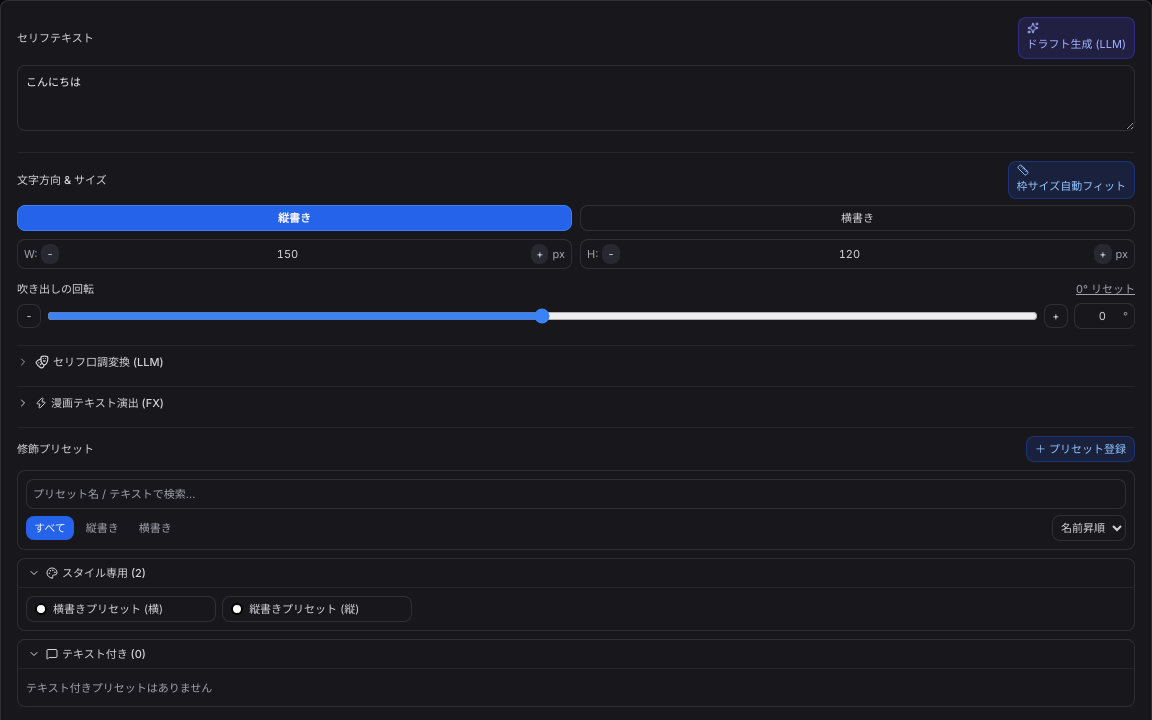
Test: SpeechBubbleControls › filters presets by direction filter (all / vertical / horizontal) (AC-4)
This screenshot has width=1152, height=720.
expect the text "縦書きプリセット (縦)" is shown: met, box 249,601 -> 359,617
expect the text "横書きプリセット (横)" is shown: met, box 53,601 -> 163,617
Filter vertical only
Click the button "縦書き" below "修飾プリセット" at (102, 528), box 78,516 -> 127,540
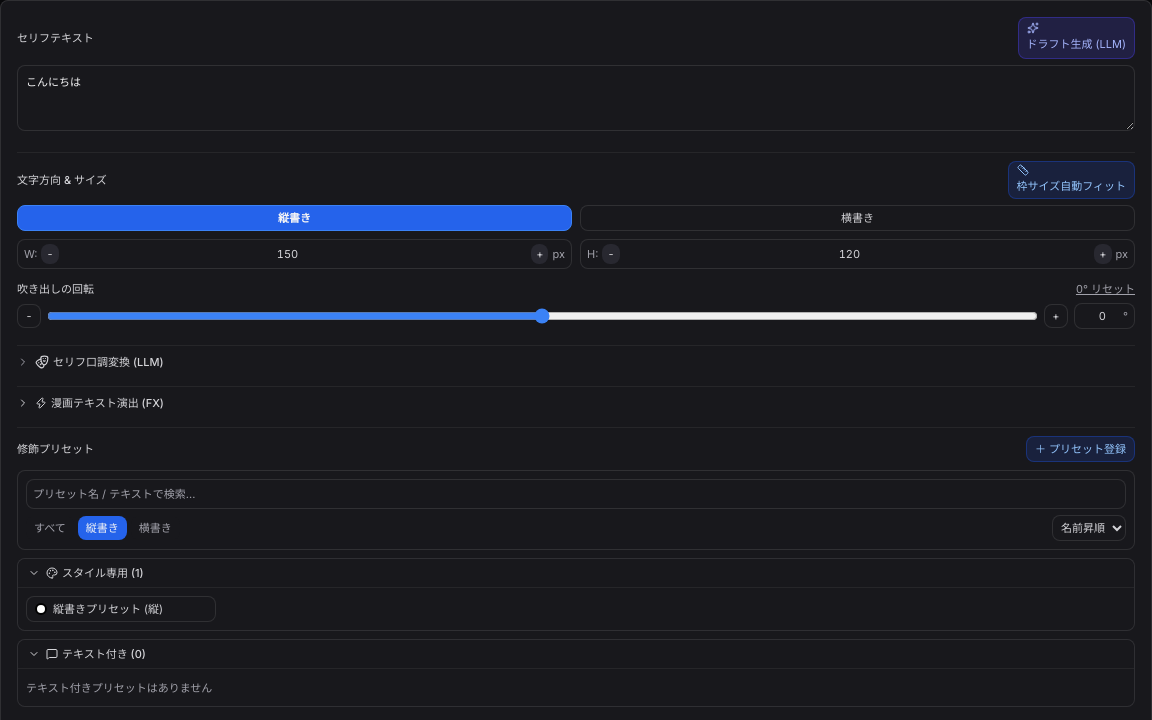
expect the text "縦書きプリセット (縦)" is shown: met, box 53,601 -> 163,617
expect the button "横書きプリセット (横)" is gone: met
Filter horizontal only
Click the button "横書き" below "修飾プリセット" at (155, 528), box 131,516 -> 180,540
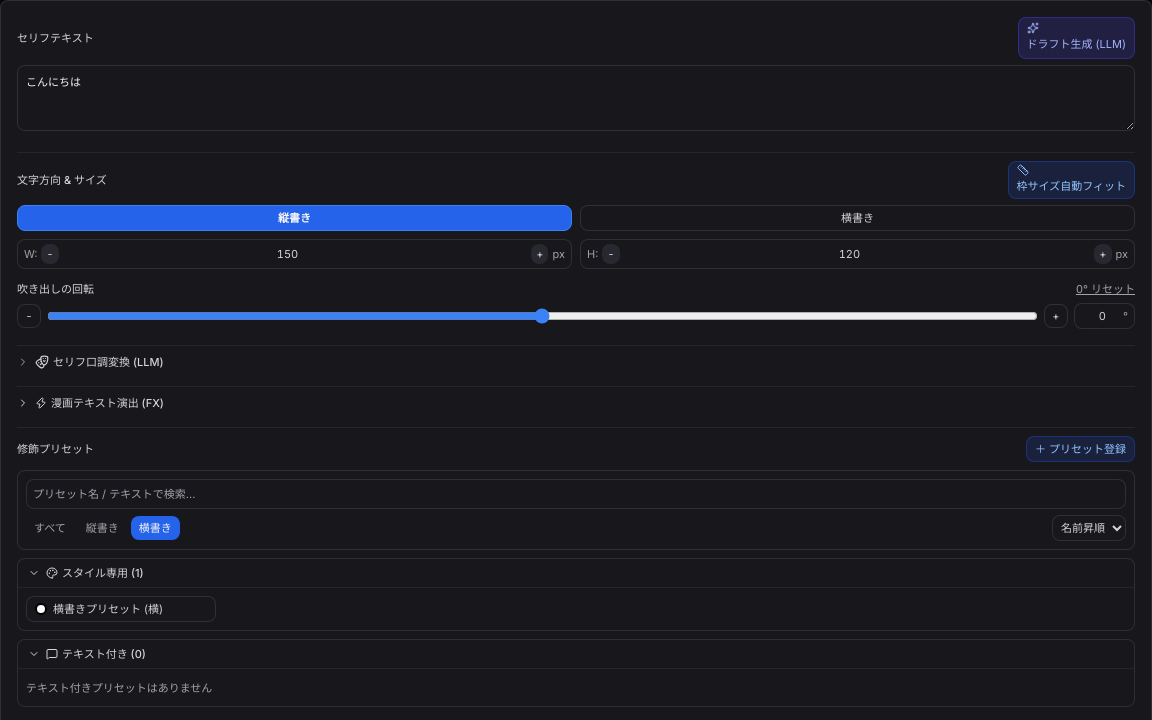
expect the button "縦書きプリセット (縦)" is gone: met
expect the text "横書きプリセット (横)" is shown: met, box 53,601 -> 163,617
Reset to all
Click the button "すべて" at (50, 528), box 26,516 -> 74,540
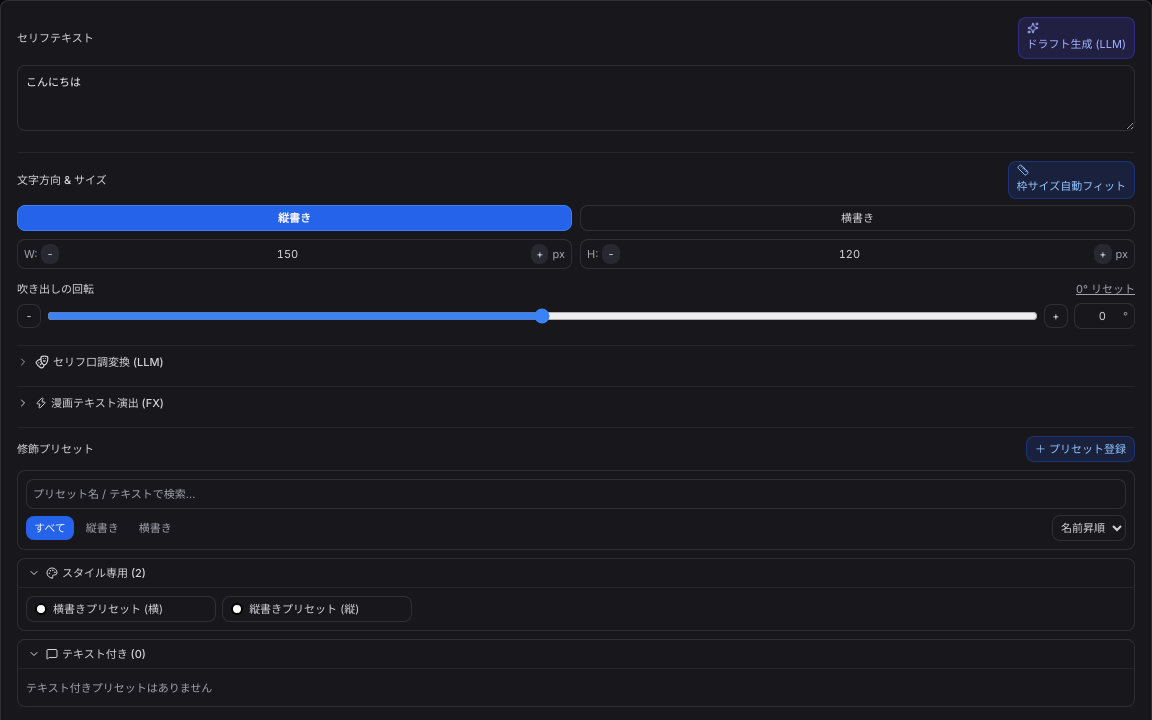
expect the text "横書きプリセット (横)" is shown: met, box 53,601 -> 163,617
expect the text "縦書きプリセット (縦)" is shown: met, box 249,601 -> 359,617
